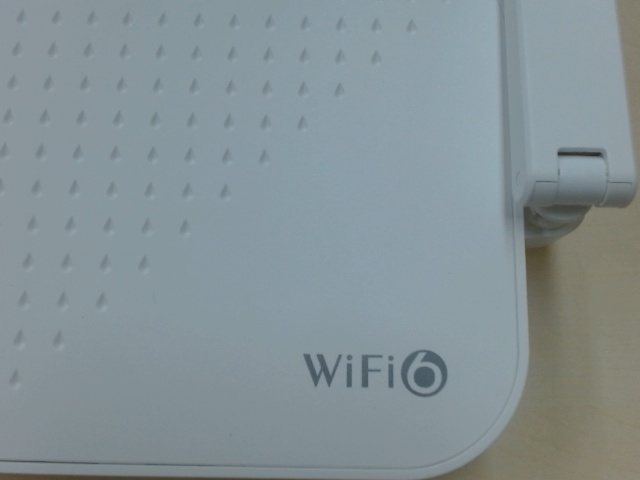AK_ZTEWIFI6: (291, 339, 463, 400)
